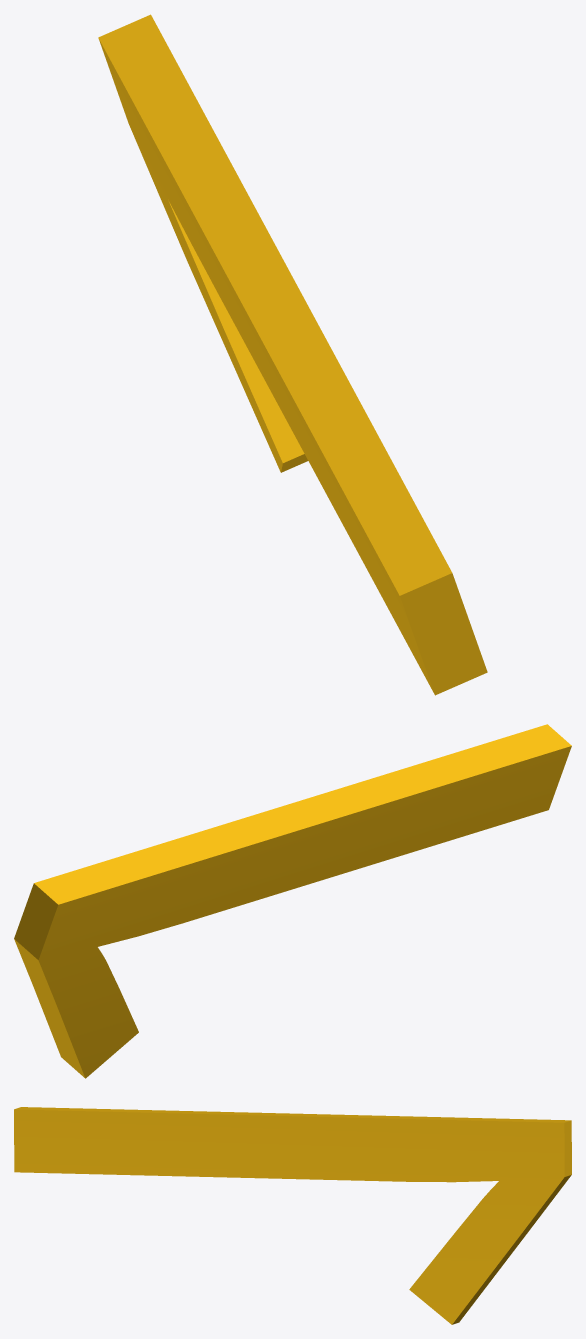
File: Number_1.gltf
The picture shows the model from 3 angles, top to bottom: view 1: azimuth 30°, elevation 25°; view 2: azimuth 150°, elevation 25°; view 3: azimuth 270°, elevation 25°; orthographic projection. The views are drawn at different scales.
Parts seen in each view (by area): view 1: Sub_8_Cell_2_3_Number_1; view 2: Sub_8_Cell_2_3_Number_1; view 3: Sub_8_Cell_2_3_Number_1.
Boxes of the visible parts, <box> form: Sub_8_Cell_2_3_Number_1: <box>98,14,487,695</box>; Sub_8_Cell_2_3_Number_1: <box>14,724,571,1078</box>; Sub_8_Cell_2_3_Number_1: <box>14,1107,571,1324</box>.
Bounding box in the file's own units: 0.00928 × 0.00943 × 0.0246.
